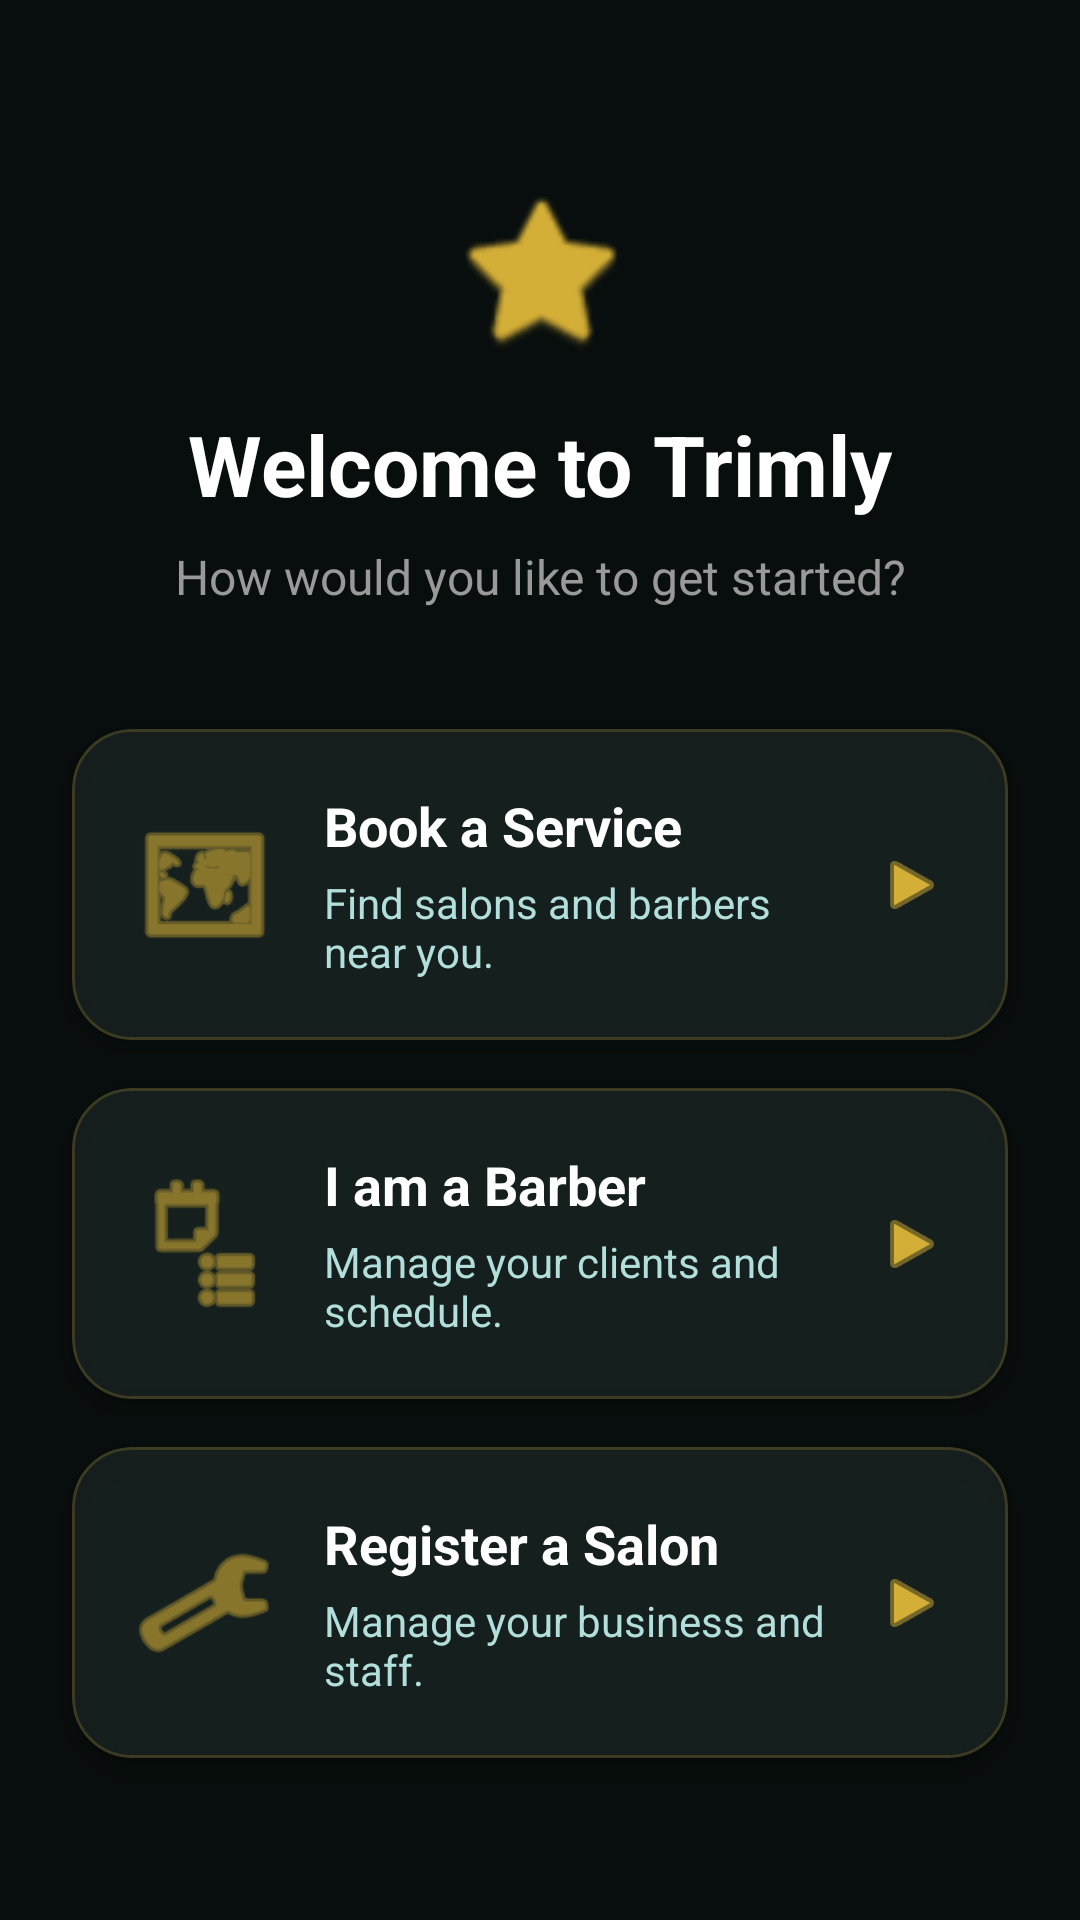

Screen size 1080px x 1920px. Icon name, then its box in pixels as (x1, y1, x2, y2):
agenda: (154, 1179, 255, 1307)
mapmode: (145, 832, 265, 938)
play: (890, 861, 934, 909), (890, 1220, 934, 1268), (890, 1579, 934, 1627)
star on: (466, 198, 617, 344)
